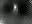person: (14, 4, 19, 16)
